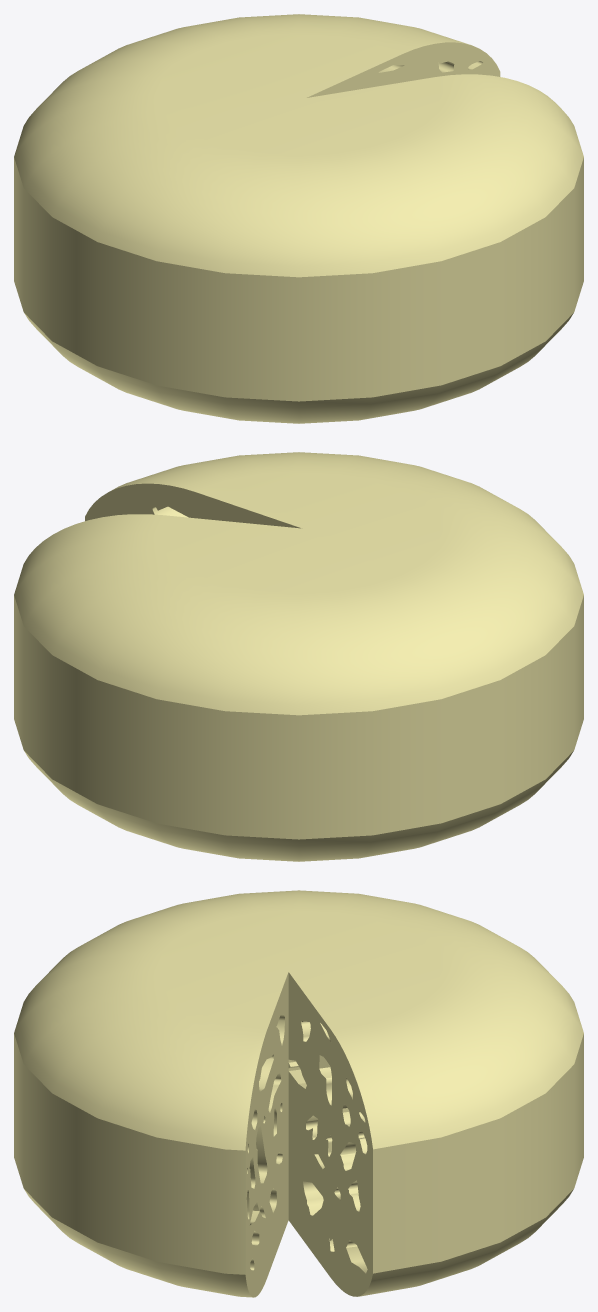
File: kashar.fbx
3 views of the same model, one above another, from view 1: azimuth 30°, elevation 25°; view 2: azimuth 150°, elevation 25°; view 3: azimuth 270°, elevation 25° (orthographic).
Visible parts, largest first — view 1: Model; view 2: Model; view 3: Model.
Part boxes in pixels (x1,y1,x2,y2): Model: (14, 14, 583, 423); Model: (14, 452, 583, 861); Model: (14, 890, 583, 1297).
Bounding box in the file's own units: 2693 × 1311 × 2727.
